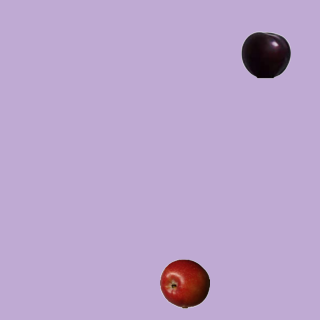Apple Braeburn: (159, 258, 209, 308)
Cherry Wax Black: (240, 29, 290, 79)
